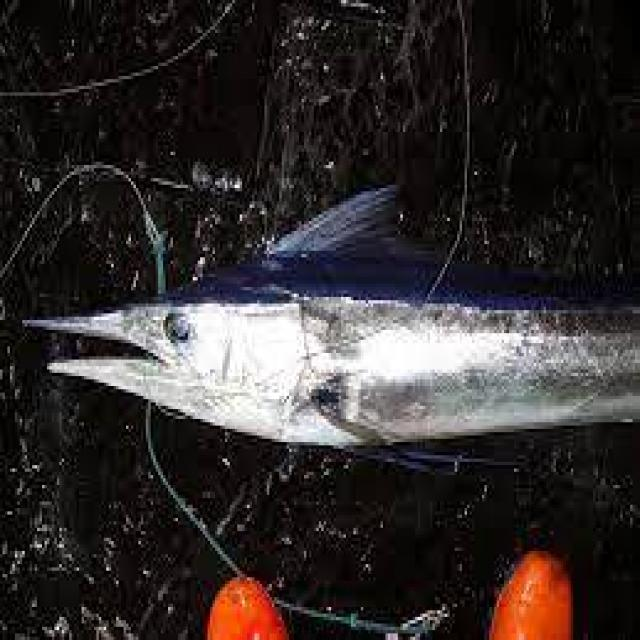Spear Fish: (18, 181, 638, 475)
